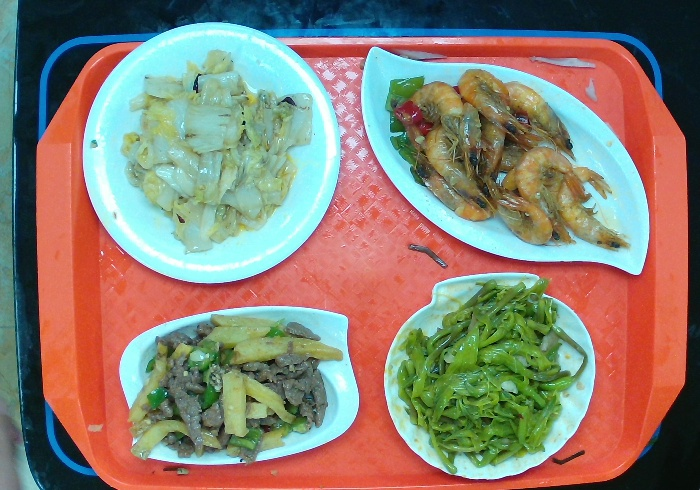RJxy-Bei_Ke_Wan: (380, 264, 596, 484)
RJxy-Jian_Jiao_Fang_Die: (118, 302, 368, 475)
RJxy-Jian_Jiao_Pan: (356, 41, 655, 280)
RJxy-Yuan_Pan: (77, 14, 346, 290)
